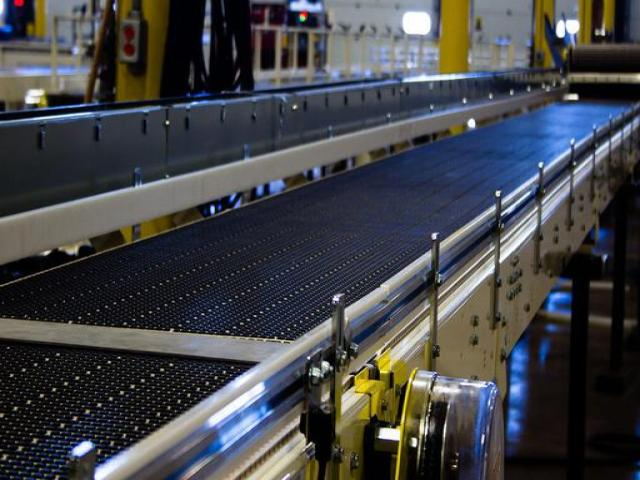conveyor: (0, 87, 639, 479)
